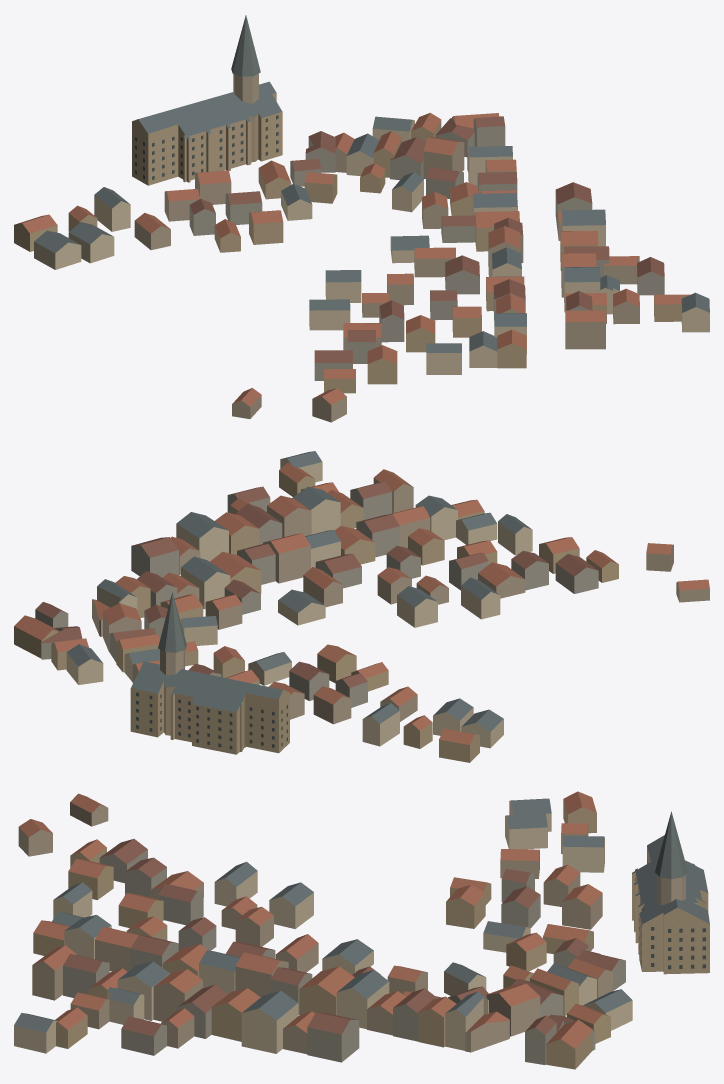
3 views of the same model, one above another, from view 1: azimuth 30°, elevation 25°; view 2: azimuth 150°, elevation 25°; view 3: azimuth 270°, elevation 25° (orthographic). The views are drawn at different scales.
Parts seen in each view (by area): view 1: C_4_1; view 2: C_4_1; view 3: C_4_1.
Part boxes in pixels (x1,y1,x2,y2): C_4_1: (14,15,709,422); C_4_1: (14,451,709,762); C_4_1: (14,791,709,1069).
Size of the model in its own units: 191 by 50.99 by 216.
